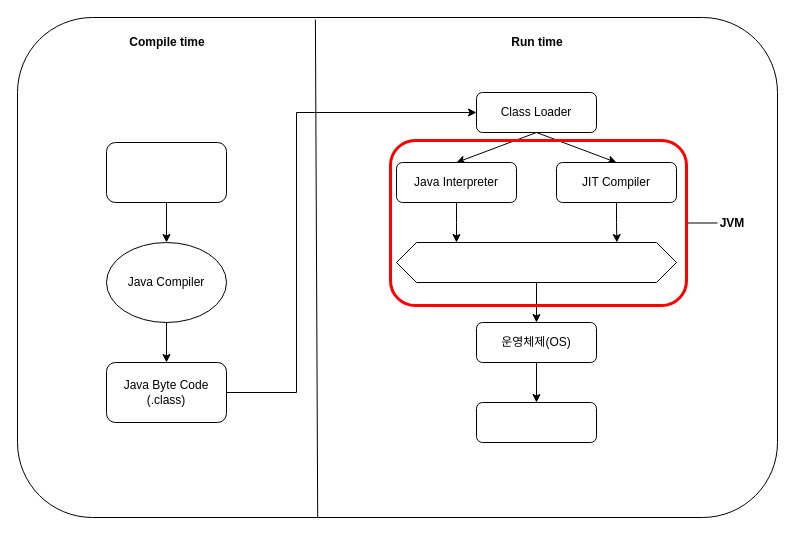
Image size: 795x536. Some labels were removed from this diagram. Each missing label, with the box of its shape:
Java source (.java): (106, 142, 226, 202)
Runtime 시스템: (396, 242, 676, 282)
하드웨어(HW): (476, 402, 596, 442)
